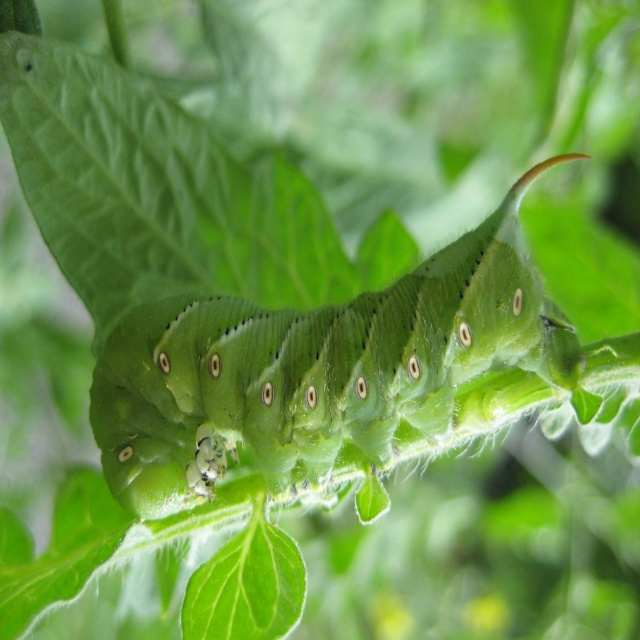Caterpillar: (88, 153, 593, 519)
